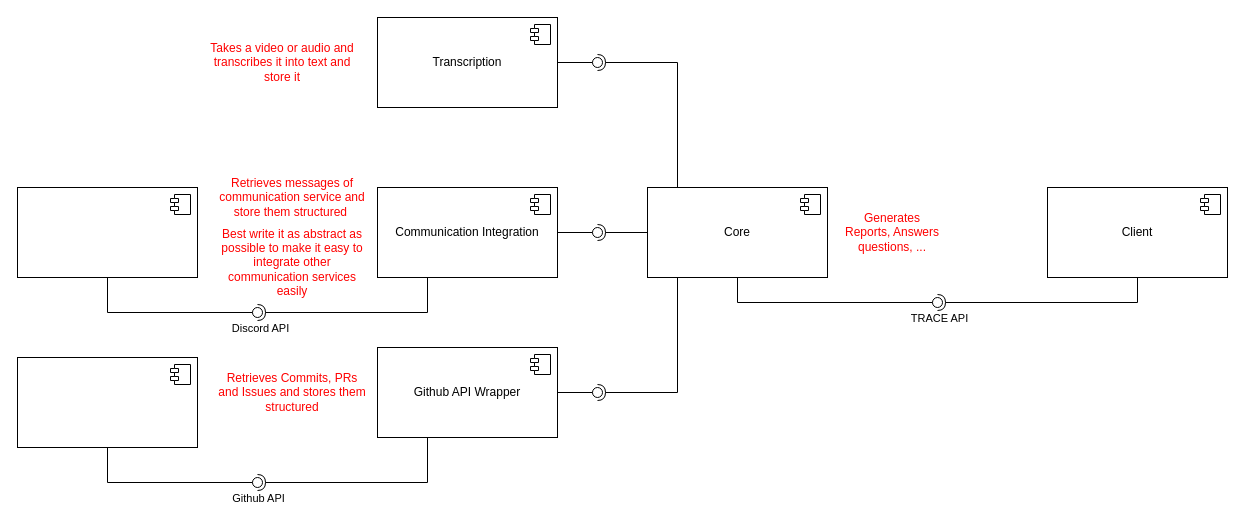
Image size: 1245x522. Some labels were removed from this diagram. Each missing label, with the box of its shape:
Discord: (16, 186, 198, 278)
Github: (16, 356, 198, 448)
